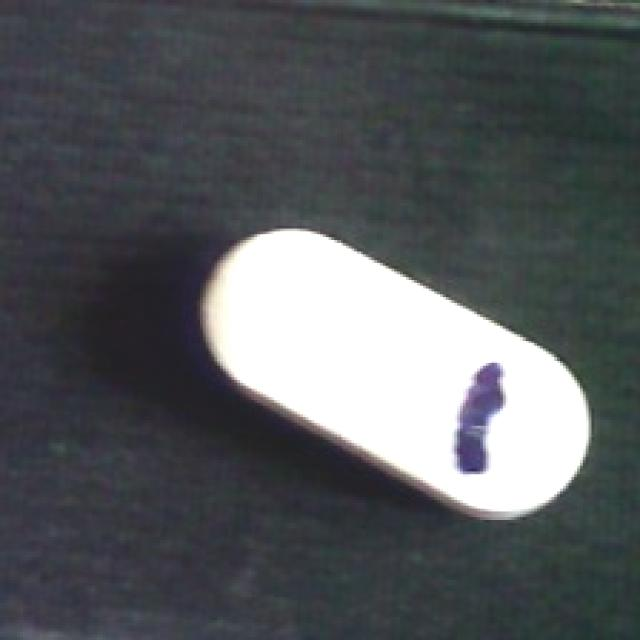defected: (189, 232, 597, 514)
